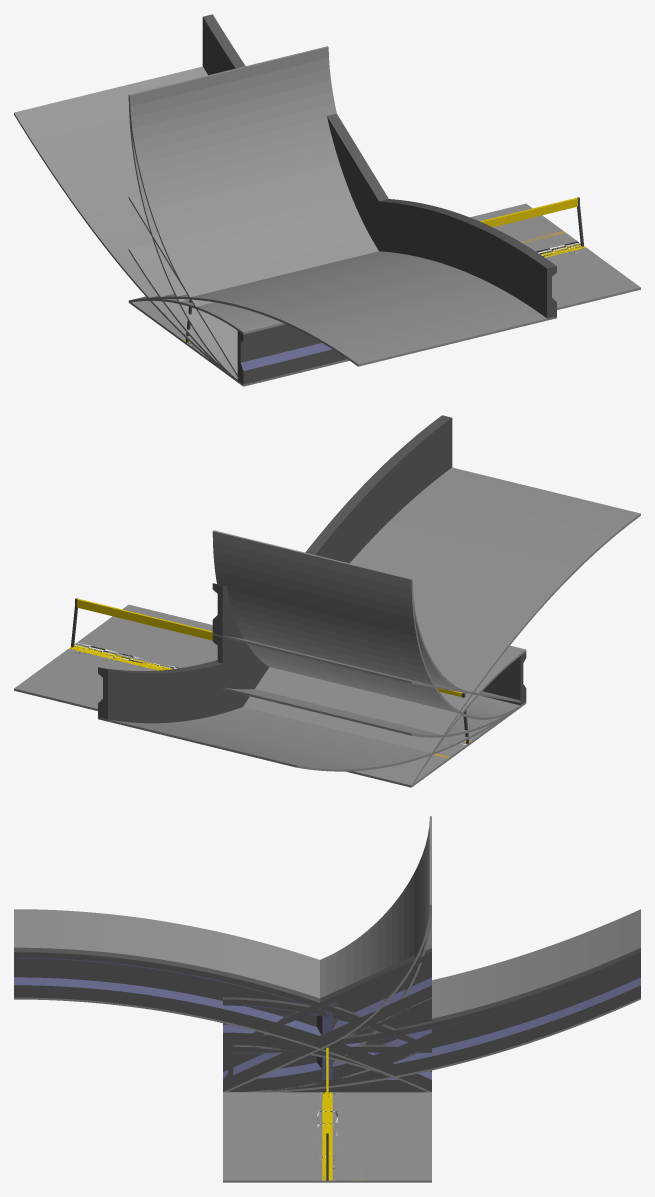
Rendered from planes.glb.
3 renders of one model, top to bottom at view 1: azimuth 30°, elevation 25°; view 2: azimuth 150°, elevation 25°; view 3: azimuth 270°, elevation 25°, orthographic. The views are drawn at different scales.
Visible parts, largest first — view 1: PlaneSlopeToVertical, PlaneSlopeDownLong, PlaneSlopeUpLong, PlaneWallSlopeDownLong, PlaneCheckpointWide, PlaneWall, PlaneFinishWide, PlaneWallSlope, PlaneSlopeVertical, PlaneWallSlopeDown, PlaneStartWide, PlaneSlopeUp (+4 smaller); view 2: PlaneSlopeDownLong, PlaneSlopeVertical, PlaneCheckpointWide, PlaneSlopeUpLong, PlaneWallSlopeDownLong, PlaneWallSlopeUpLong, PlaneFinishWide, PlaneSlopeUp, PlaneStartWide, PlaneWallSlopeUp, PlaneSlope, PlaneWall (+4 smaller); view 3: PlaneCheckpointWide, PlaneWallSlopeDownLong, PlaneSlopeDownLong, PlaneWallSlopeUpLong, PlaneSlopeUpLong, PlaneFinishWide, PlaneSlopeToVertical, PlaneWallSlope, PlaneWallSlopeUp, PlaneWallCorner, PlaneWallSlopeDown, PlaneStartWide.
Boxes of the visible parts, x1,y1,x2,y2 form: PlaneSlopeToVertical: (129, 46, 378, 385); PlaneSlopeDownLong: (128, 251, 556, 366); PlaneSlopeUpLong: (14, 66, 300, 386); PlaneWallSlopeDownLong: (362, 199, 556, 319); PlaneCheckpointWide: (134, 197, 640, 384); PlaneWall: (237, 324, 348, 385); PlaneFinishWide: (138, 204, 640, 356); PlaneWallSlope: (327, 113, 406, 254); PlaneSlopeVertical: (128, 95, 238, 380); PlaneWallSlopeDown: (355, 203, 432, 260); PlaneStartWide: (147, 205, 639, 309); PlaneSlopeUp: (128, 242, 222, 368); PlaneSlopeDownLong: (243, 467, 640, 786); PlaneSlopeVertical: (212, 531, 522, 719); PlaneCheckpointWide: (14, 598, 487, 787); PlaneSlopeUpLong: (98, 702, 526, 771); PlaneWallSlopeDownLong: (234, 415, 452, 680); PlaneWallSlopeUpLong: (98, 655, 264, 723); PlaneFinishWide: (15, 605, 419, 784); PlaneSlopeUp: (222, 687, 505, 737); PlaneStartWide: (14, 605, 448, 783); PlaneWallSlopeUp: (212, 635, 260, 687); PlaneSlope: (212, 633, 520, 702); PlaneWall: (483, 652, 526, 705); PlaneCheckpointWide: (223, 1047, 431, 1182); PlaneWallSlopeDownLong: (14, 947, 431, 1091); PlaneSlopeDownLong: (14, 909, 431, 1092); PlaneWallSlopeUpLong: (223, 948, 640, 1092); PlaneSlopeUpLong: (232, 909, 640, 1092); PlaneFinishWide: (223, 1092, 431, 1182); PlaneSlopeToVertical: (223, 816, 431, 1092); PlaneWallSlope: (223, 948, 431, 1091); PlaneWallSlopeUp: (223, 999, 431, 1091); PlaneWallCorner: (223, 1044, 431, 1092); PlaneWallSlopeDown: (223, 997, 415, 1080); PlaneStartWide: (223, 1092, 431, 1182).
Size of the model in its own units: 40 by 20 by 60.
